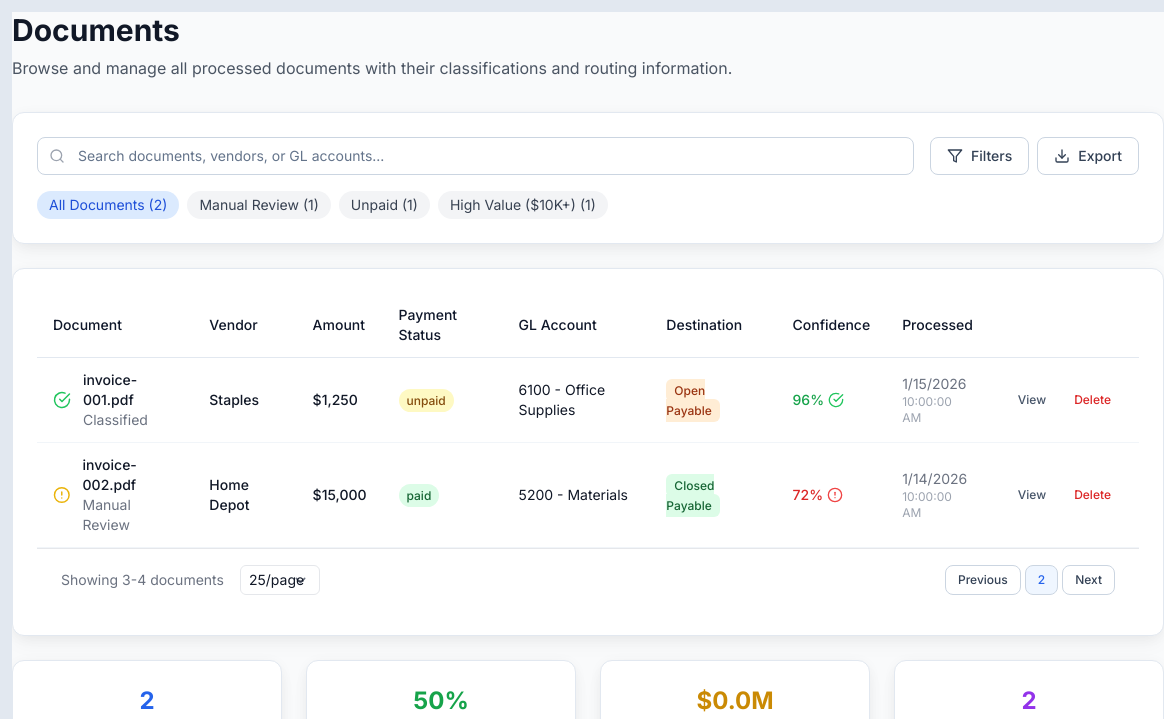
Scenario: Documents › closes export menu on Escape key
Step 1. Click the button "Export" → (1088, 156), box [1037,137,1139,175]
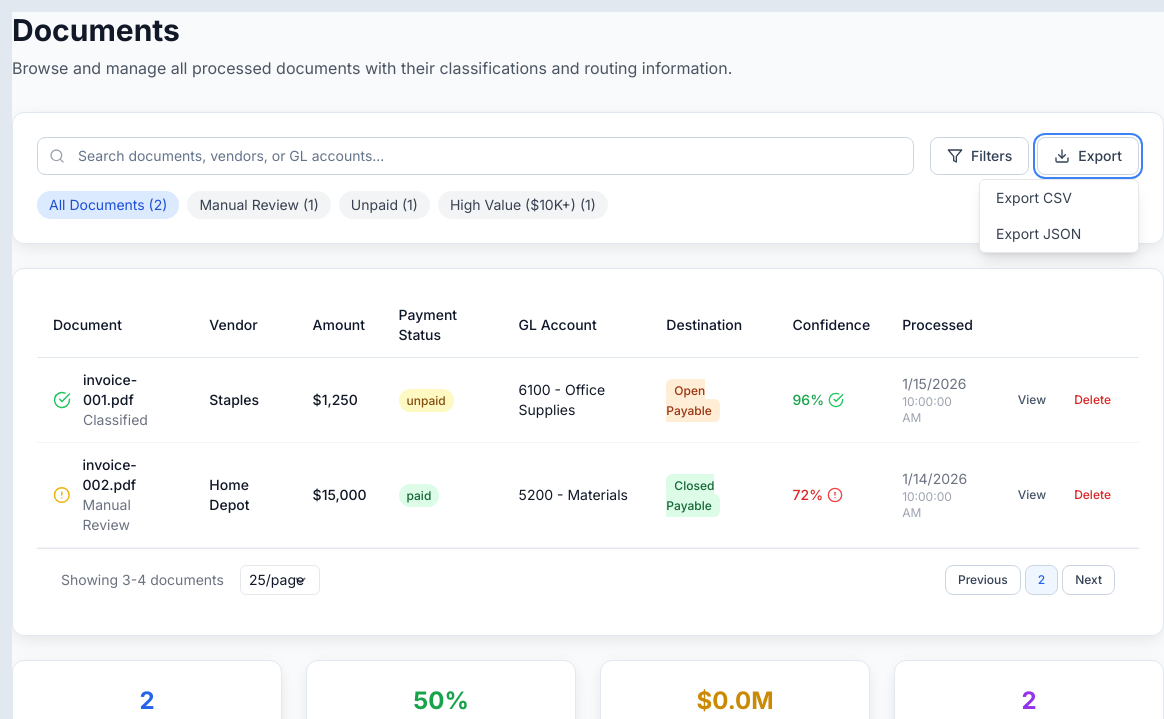
Check: the menu is shown, box [979,179,1139,253]
Fire Escape on the menu container
Step 2. Press Escape in the element showing "Export Export CSV Export JSON", box [1037,137,1139,175]
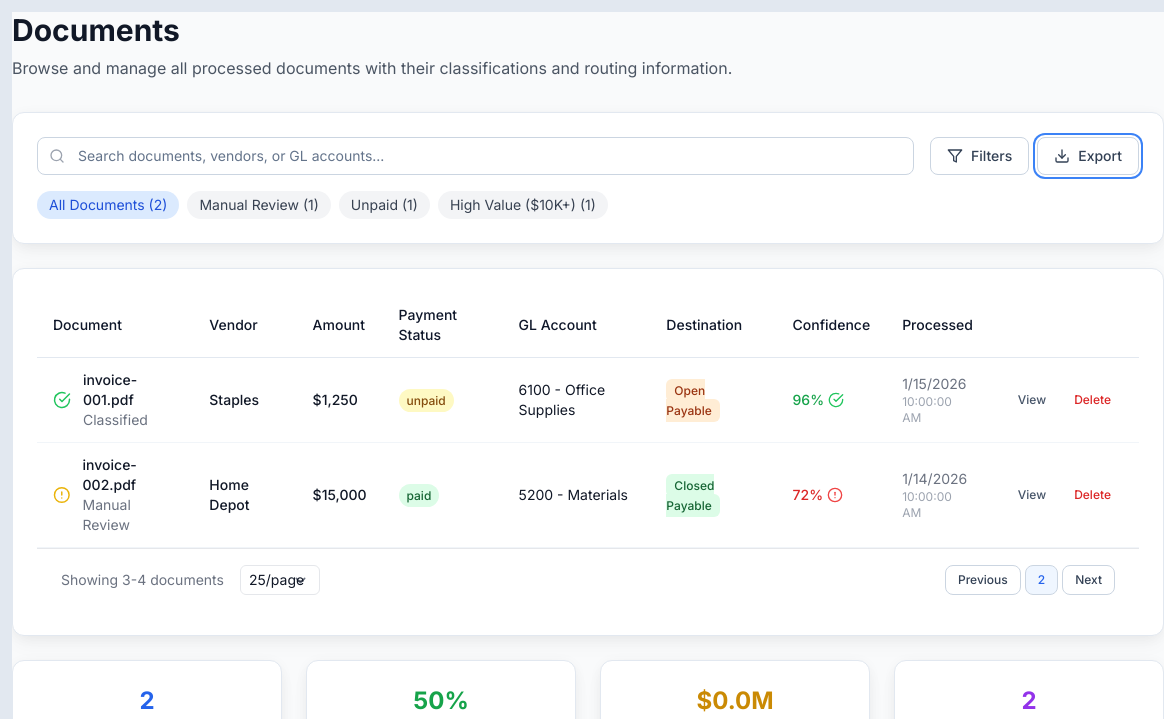
Check: the menu is gone
